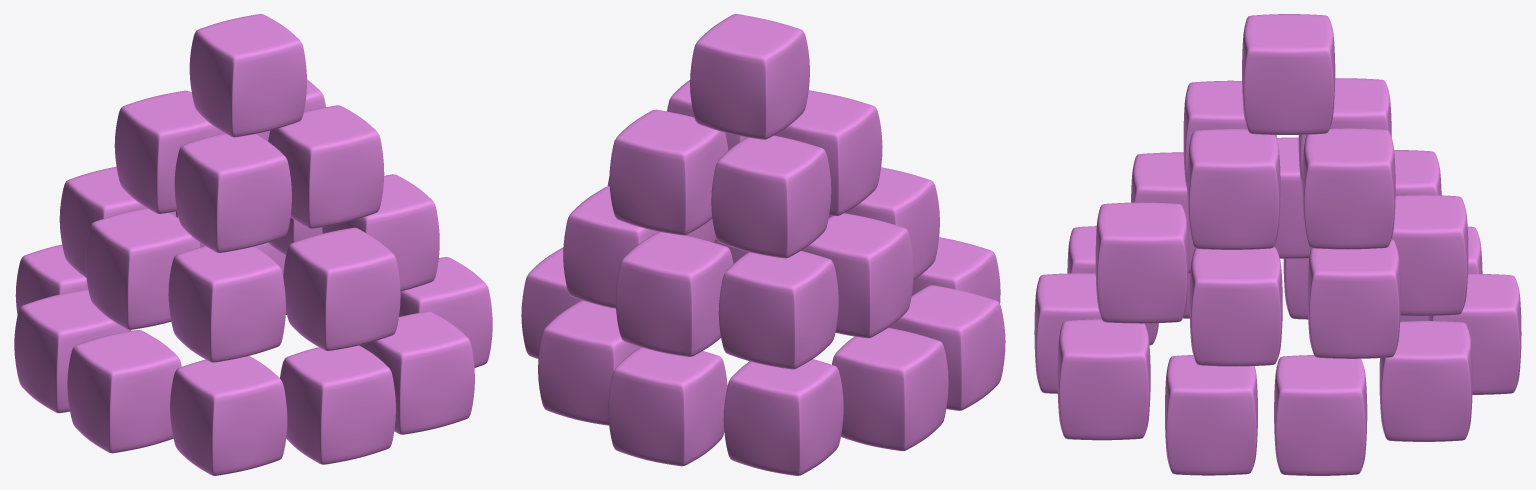
The model's file is Tutorial_OnionCut.fbx.
3 views of the same model, side by side, from view 1: azimuth 30°, elevation 25°; view 2: azimuth 150°, elevation 25°; view 3: azimuth 270°, elevation 25° (orthographic). The views are drawn at different scales.
Visible parts, largest first — view 1: Tutorial_OnionCut; view 2: Tutorial_OnionCut; view 3: Tutorial_OnionCut.
Part boxes in pixels (x1,y1,x2,y2): Tutorial_OnionCut: (14,14,492,475); Tutorial_OnionCut: (521,14,1005,475); Tutorial_OnionCut: (1034,14,1521,475).
Bounding box in the file's own units: 29.41 × 24.48 × 30.85.
